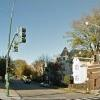Tree: (59, 5, 100, 59)
